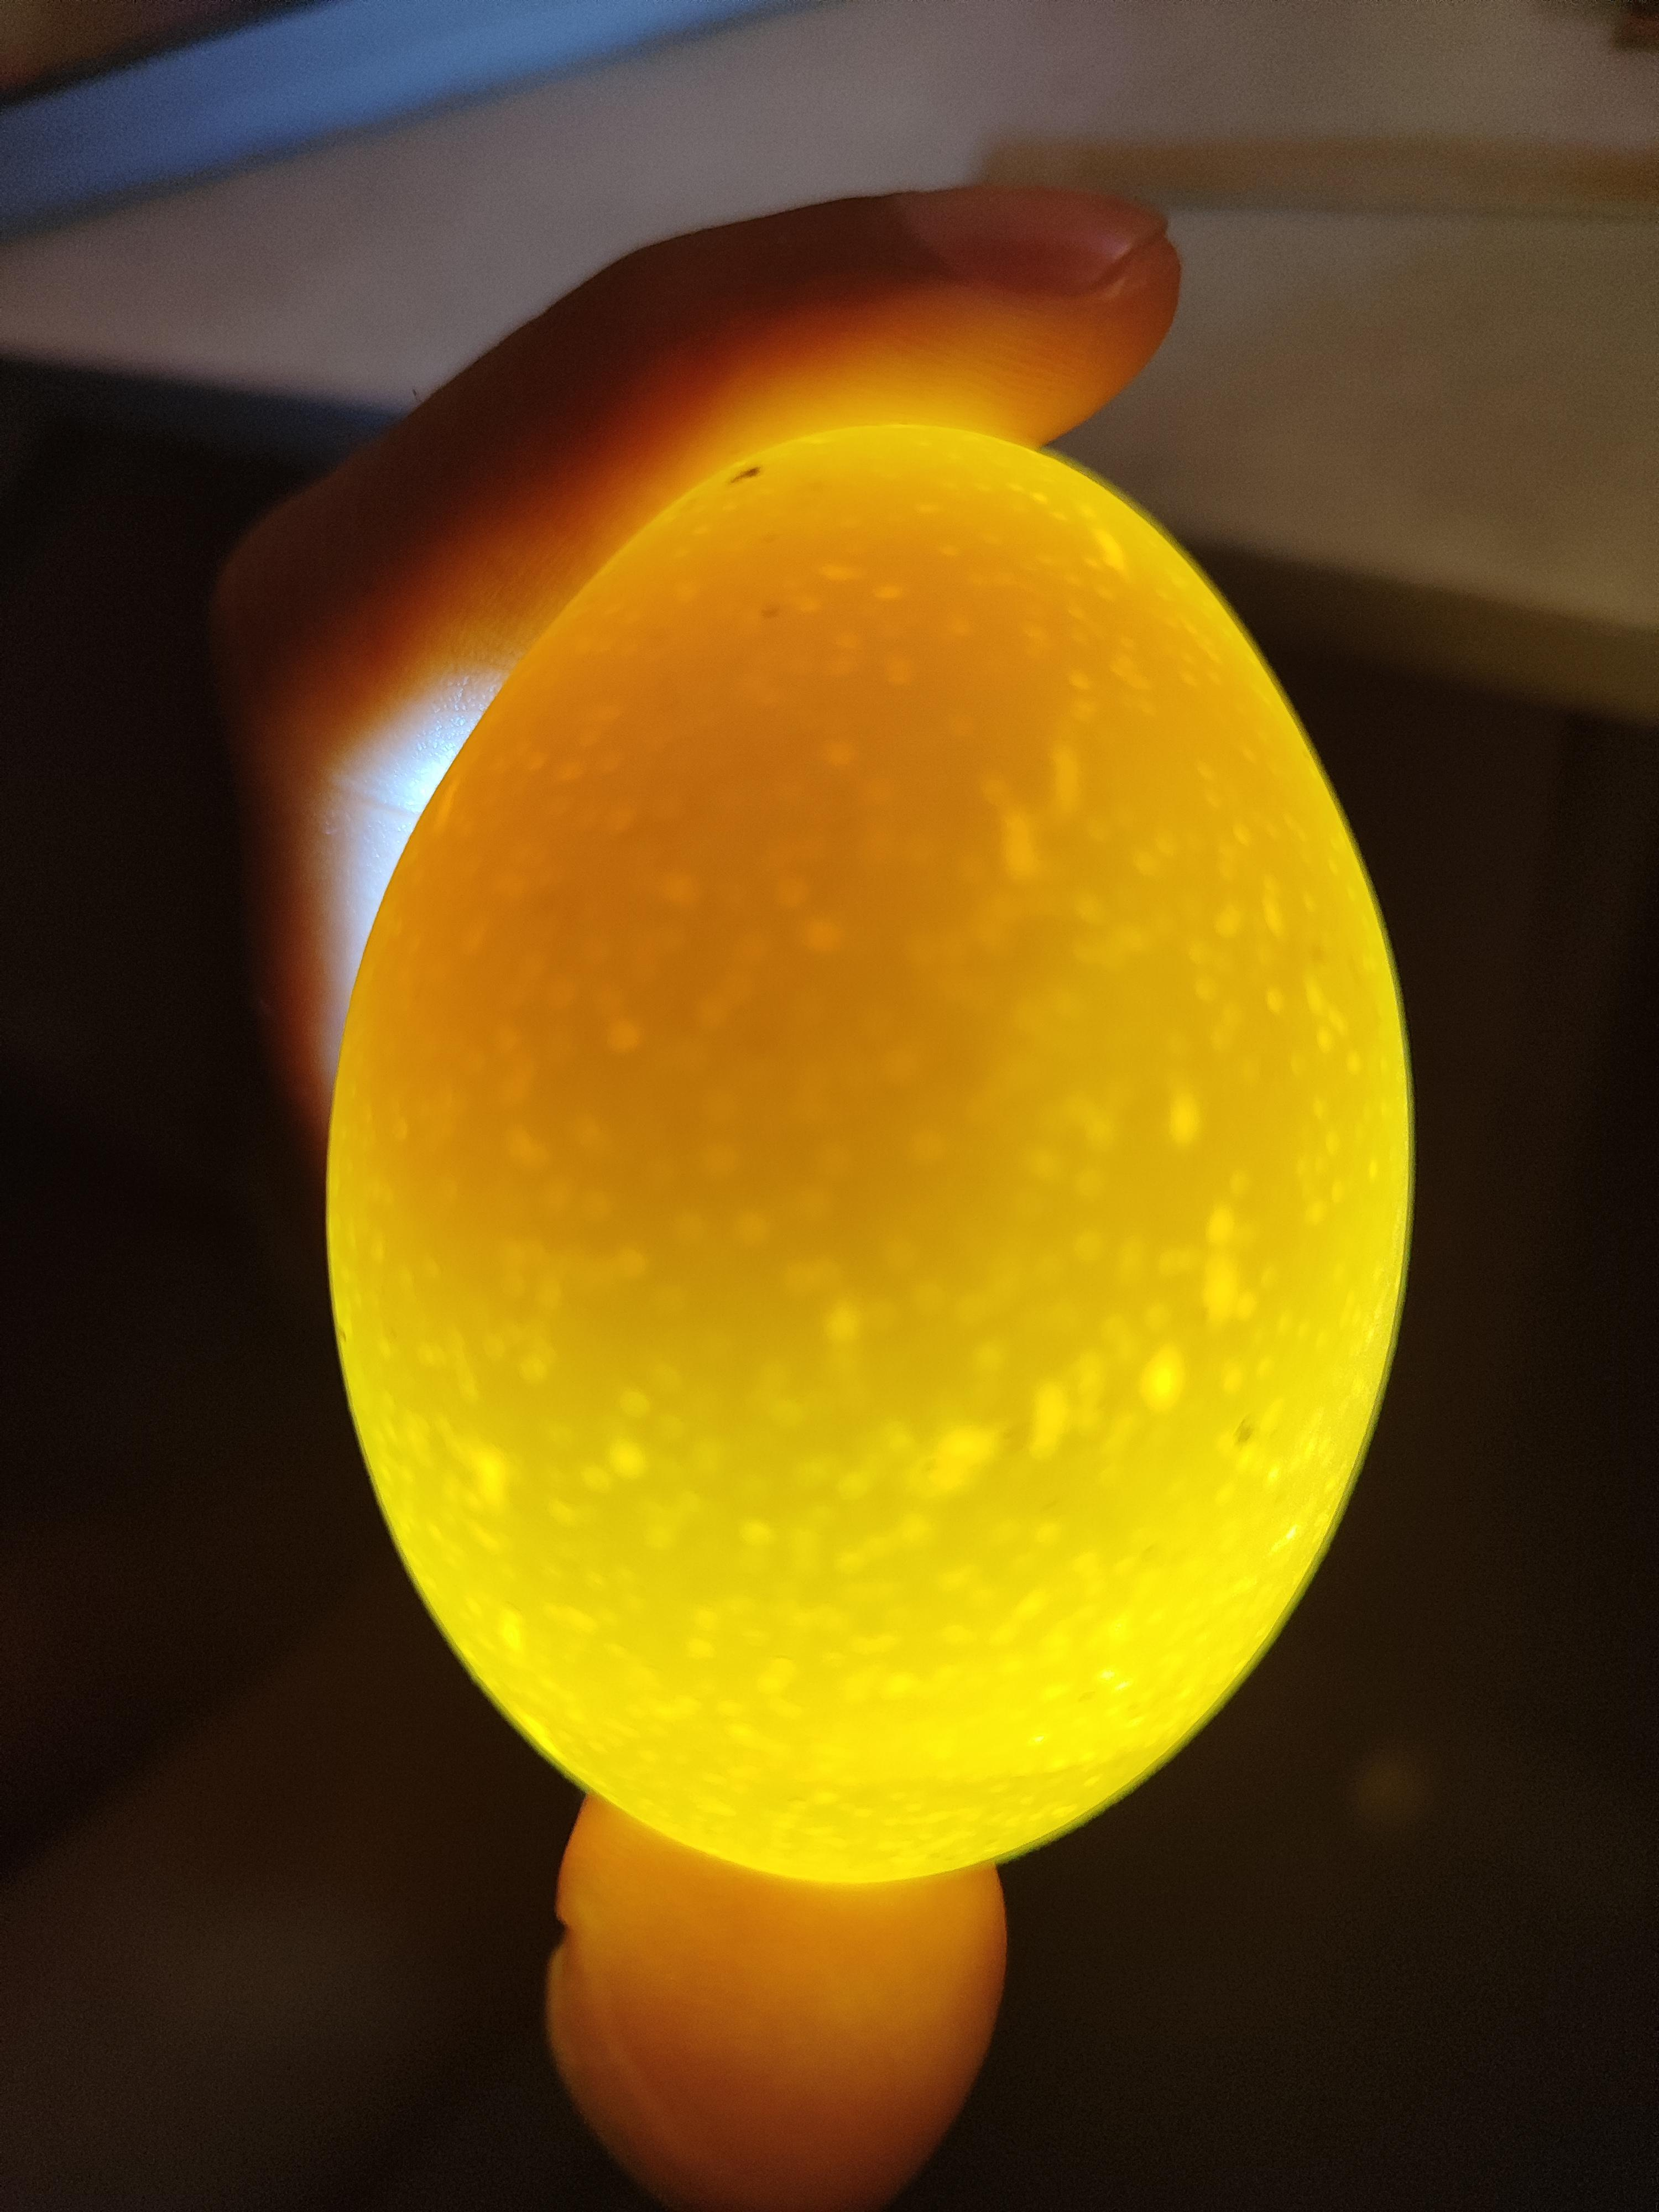B - Fair: (329, 395, 1432, 1886)
